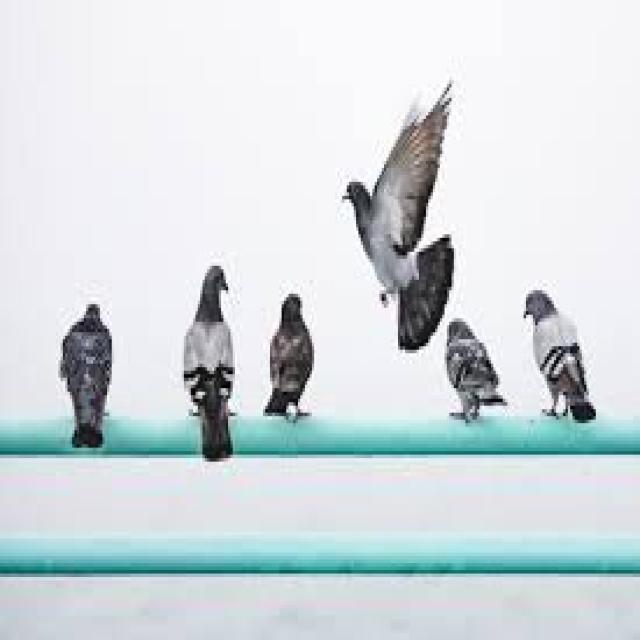Pigeon: (339, 75, 457, 362), (182, 257, 250, 473), (519, 281, 603, 427), (52, 284, 121, 450), (261, 276, 318, 428), (438, 309, 510, 421)
